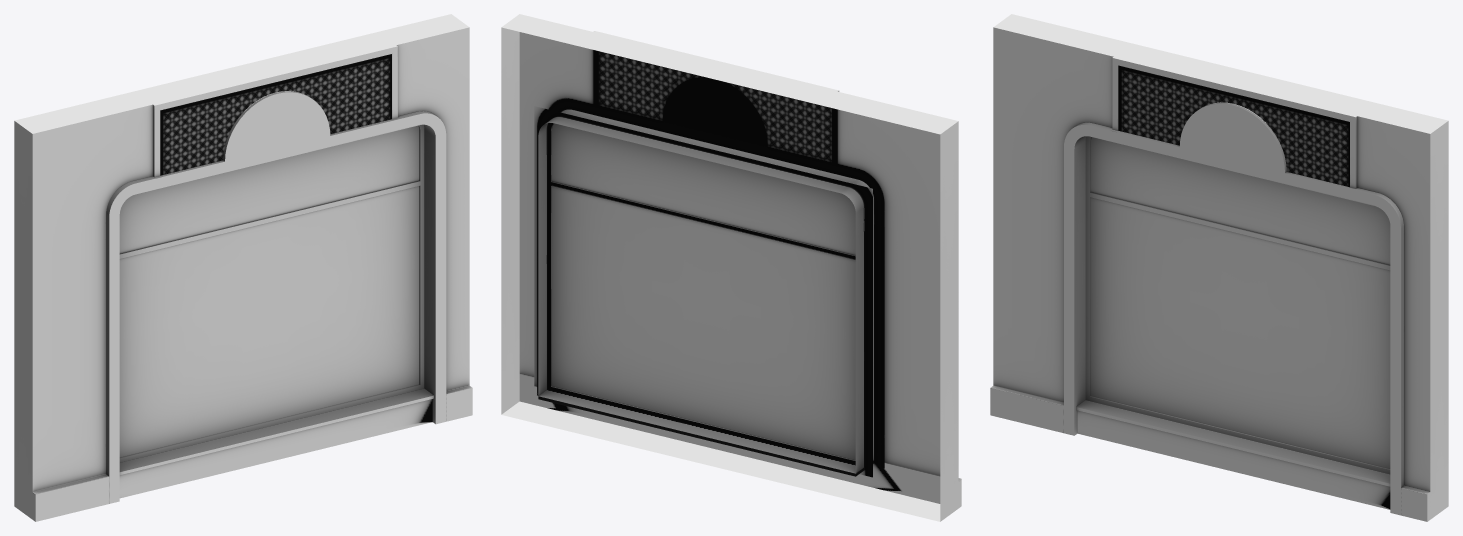
File: floorfirst_2.glb
The picture shows the model from 3 angles, left to right: view 1: azimuth 30°, elevation 25°; view 2: azimuth 150°, elevation 25°; view 3: azimuth 330°, elevation 25°; orthographic projection.
Parts seen in each view (by area): view 1: floorfirst_2; view 2: floorfirst_2; view 3: floorfirst_2.
Boxes of the visible parts, box(x1,y1,x2,y2) form: floorfirst_2: box(14, 14, 472, 521); floorfirst_2: box(501, 14, 961, 521); floorfirst_2: box(990, 14, 1448, 521).
Size of the model in its own units: 4.15 by 3.5 by 0.35.
Materials: 1 (1 with a texture image).
